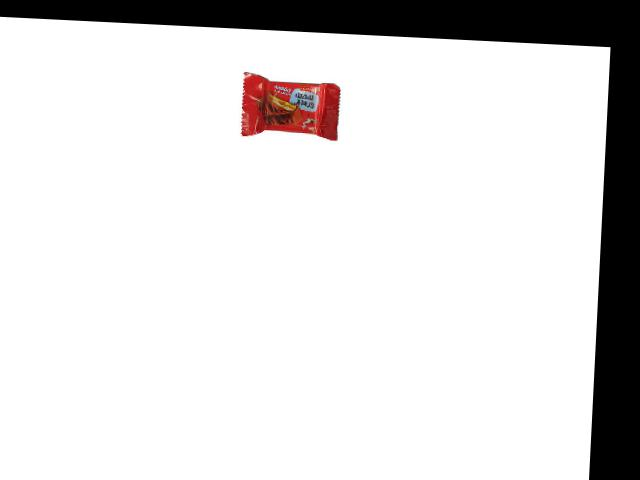chocolate: (239, 65, 349, 140)
